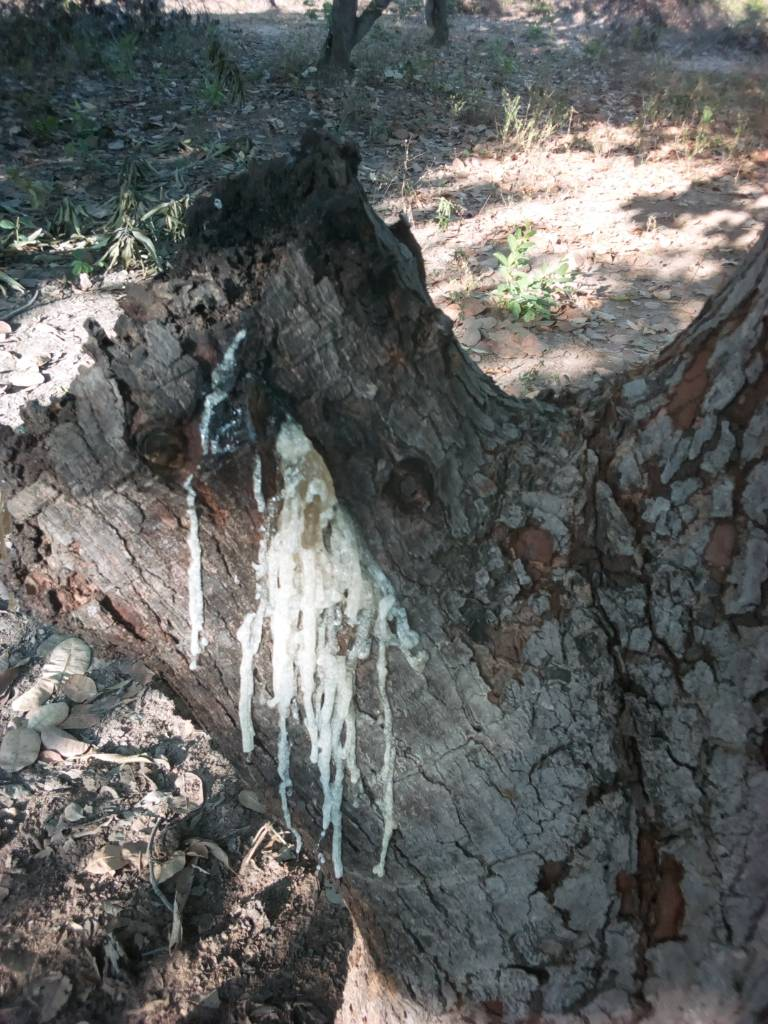Gommose: (163, 360, 410, 883)
